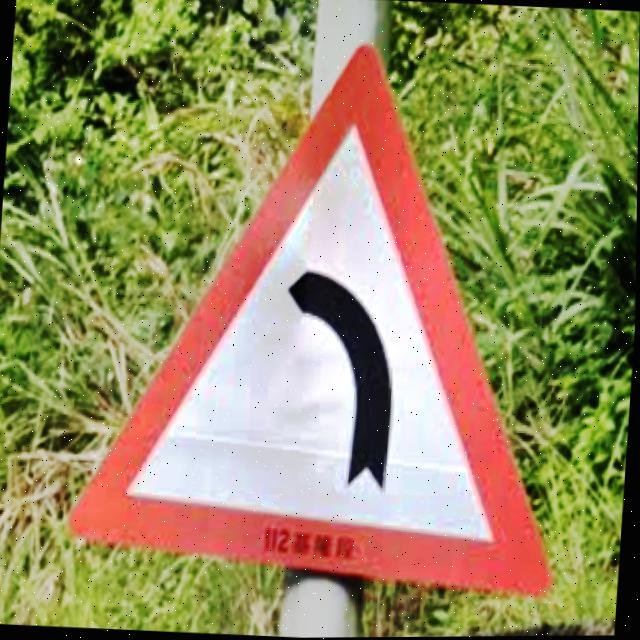leftbend: (68, 45, 555, 600)
